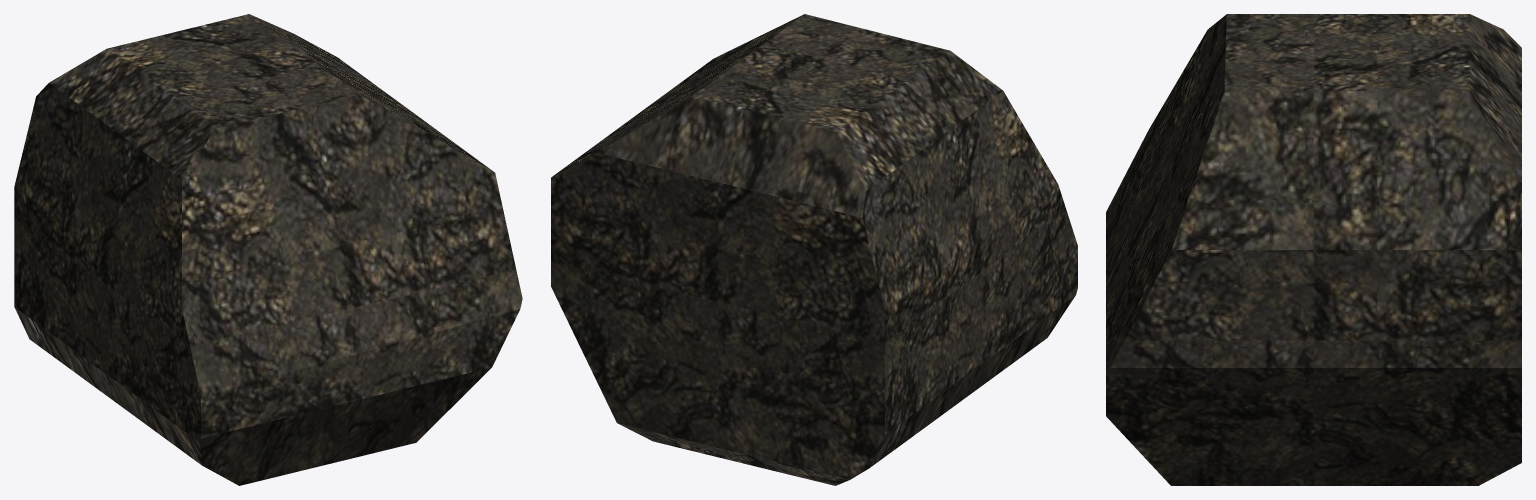
File: rock.fbx
The picture shows the model from 3 angles, left to right: view 1: azimuth 30°, elevation 25°; view 2: azimuth 150°, elevation 25°; view 3: azimuth 270°, elevation 25°; orthographic projection. The views are drawn at different scales.
Parts seen in each view (by area): view 1: Object; view 2: Object; view 3: Object.
Part boxes in pixels (x1,y1,x2,y2): Object: (14, 14, 522, 485); Object: (551, 14, 1077, 485); Object: (1106, 14, 1521, 485).
Bounding box in the file's own units: 1200 × 1200 × 1200.
